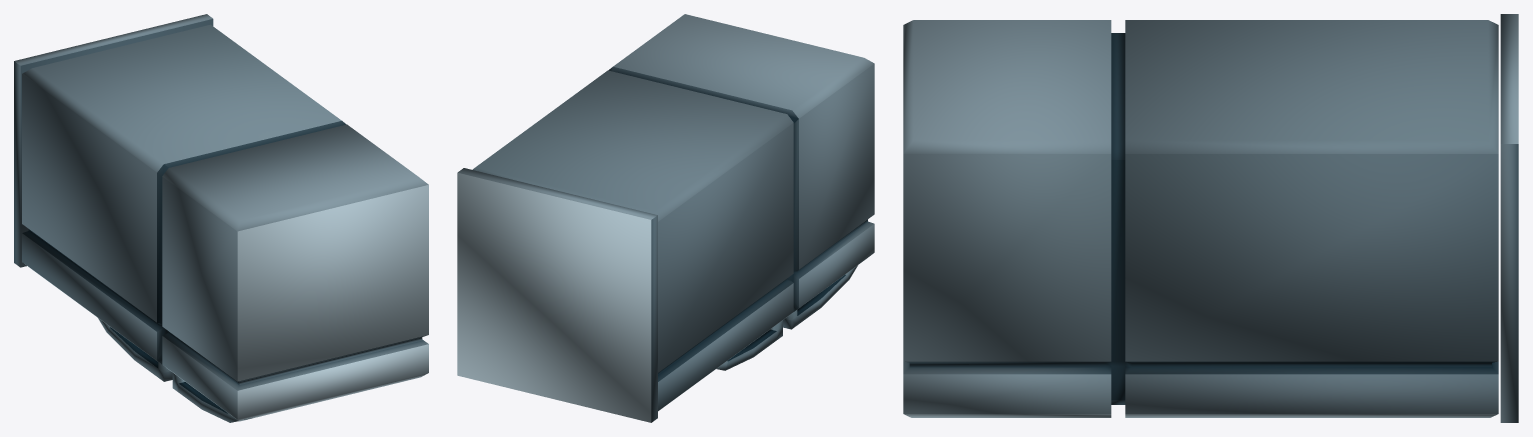
The model's file is fridge.glb.
3 views of the same model, side by side, from view 1: azimuth 30°, elevation 25°; view 2: azimuth 150°, elevation 25°; view 3: azimuth 270°, elevation 25° (orthographic). The views are drawn at different scales.
Parts seen in each view (by area): view 1: Fridge; view 2: Fridge; view 3: Fridge.
Boxes of the visible parts, left/top/right/bottom form: Fridge: left=14, top=14, right=428, bottom=422; Fridge: left=457, top=14, right=874, bottom=422; Fridge: left=903, top=14, right=1518, bottom=422.
Bounding box in the file's own units: 1.02 × 1.11 × 2.04.
